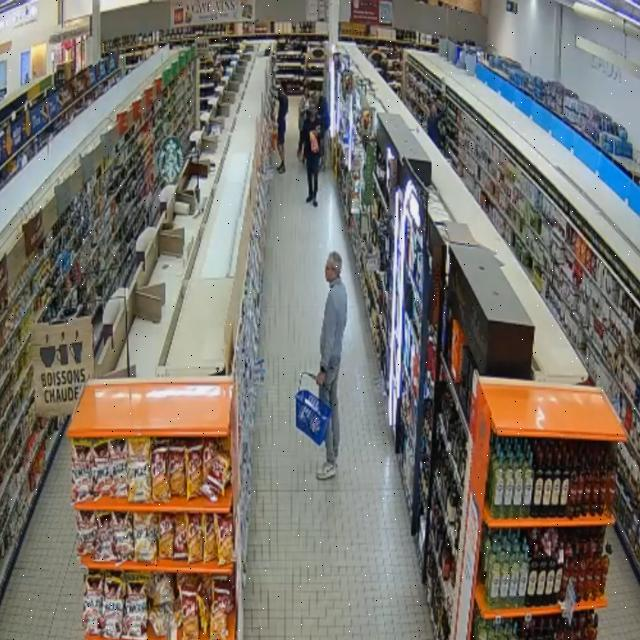bags: (311, 133, 319, 153)
hands: (316, 372, 326, 386), (298, 150, 303, 161)
person: (317, 252, 347, 479), (303, 111, 320, 206), (277, 86, 288, 173), (298, 87, 310, 159), (318, 96, 330, 164)
